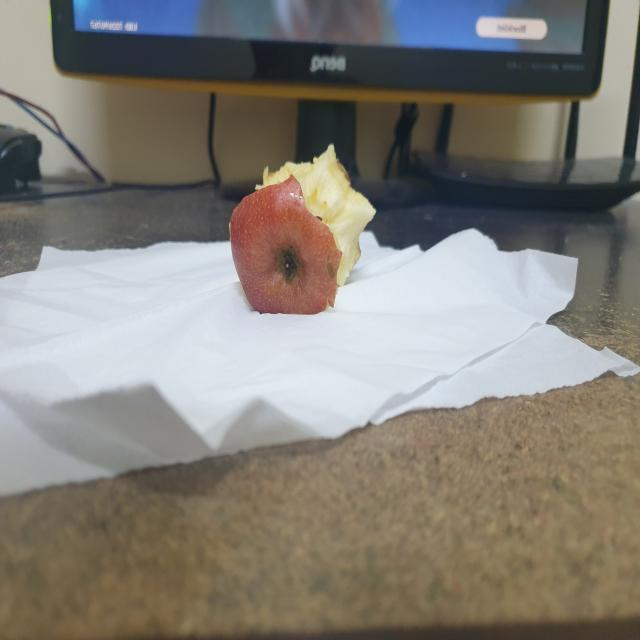apple: (222, 141, 378, 329)
